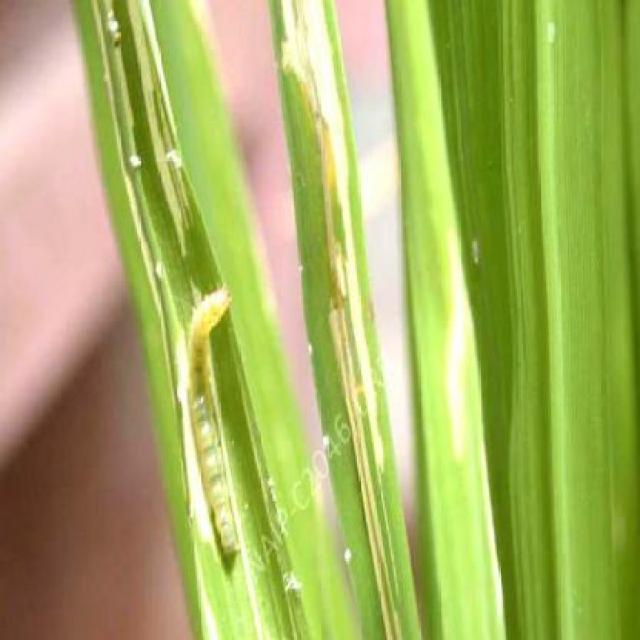leaf-folder: (183, 278, 254, 574)
